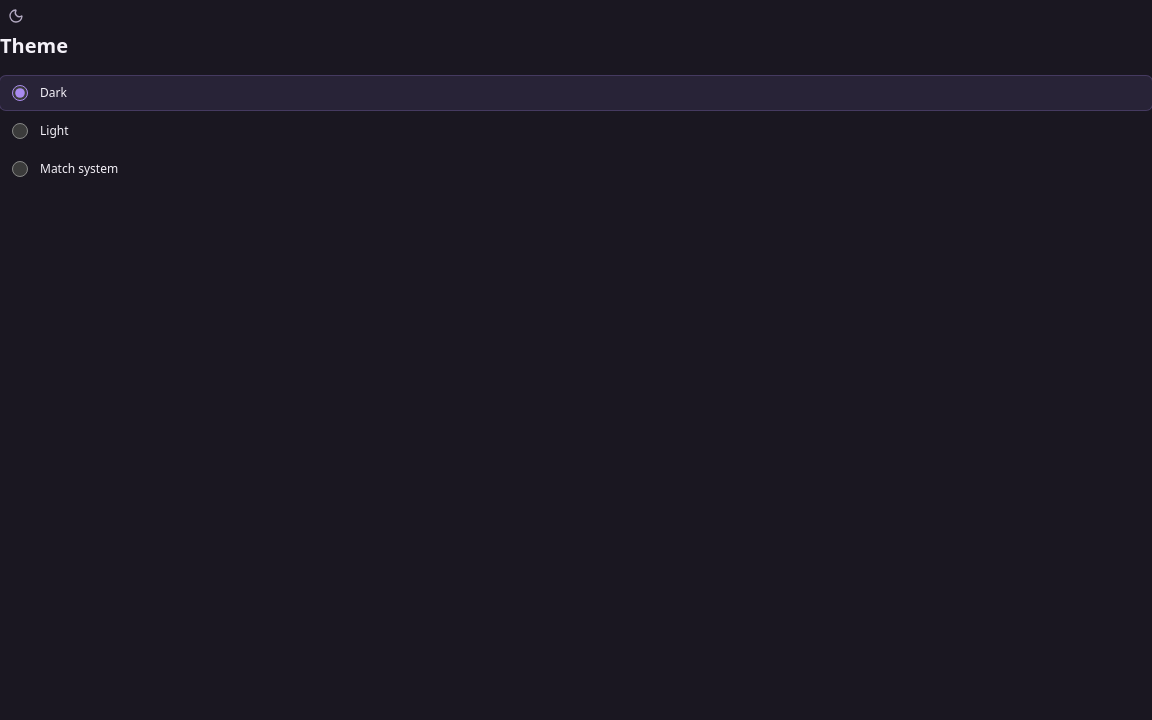
useTheme — shared external store keeps multiple consumers in sync (WR-01) › clicking ThemeChip cycles updates ThemeToggle radio selection in the same render tree
Check: the radio button labelled "Dark" is checked, box [12, 84, 28, 100]
Note: Click chip — cycles dark → light
Click the button named "current: dark".
click(16, 16)  # box [0, 0, 32, 32]
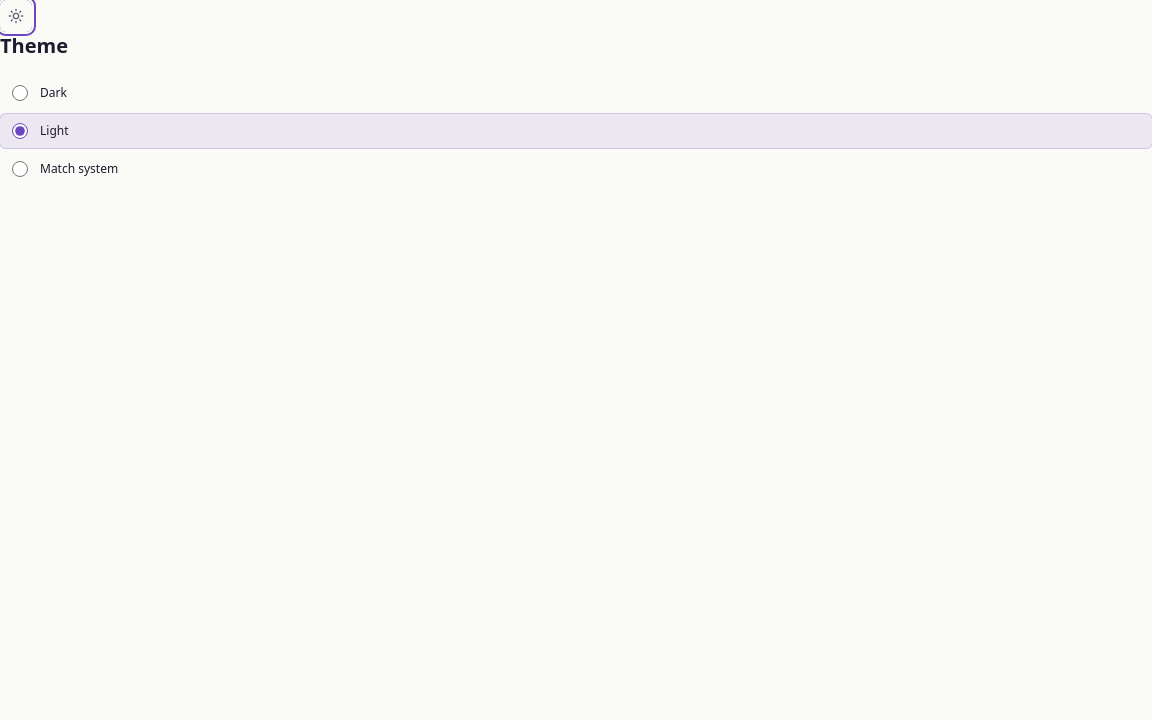
Check: the radio button labelled "Light" is checked, box [12, 122, 28, 138]
Check: the radio button labelled "Dark" is not checked, box [12, 84, 28, 100]
